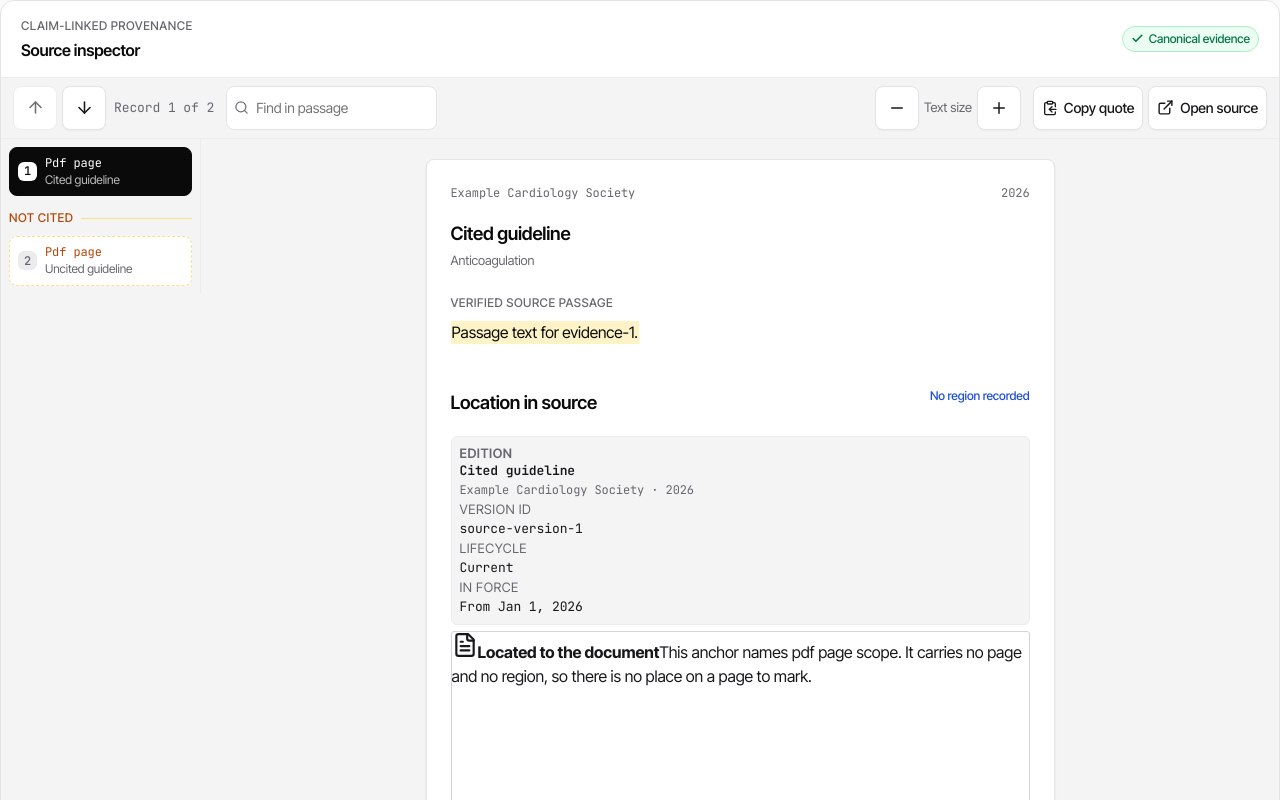
Test case: SourceViewer, finding a word in a passage › drops the search when the reader moves to another passage
In the search field labelled "Find in passage": x=331, y=108 [226,86,437,130], type "passage"
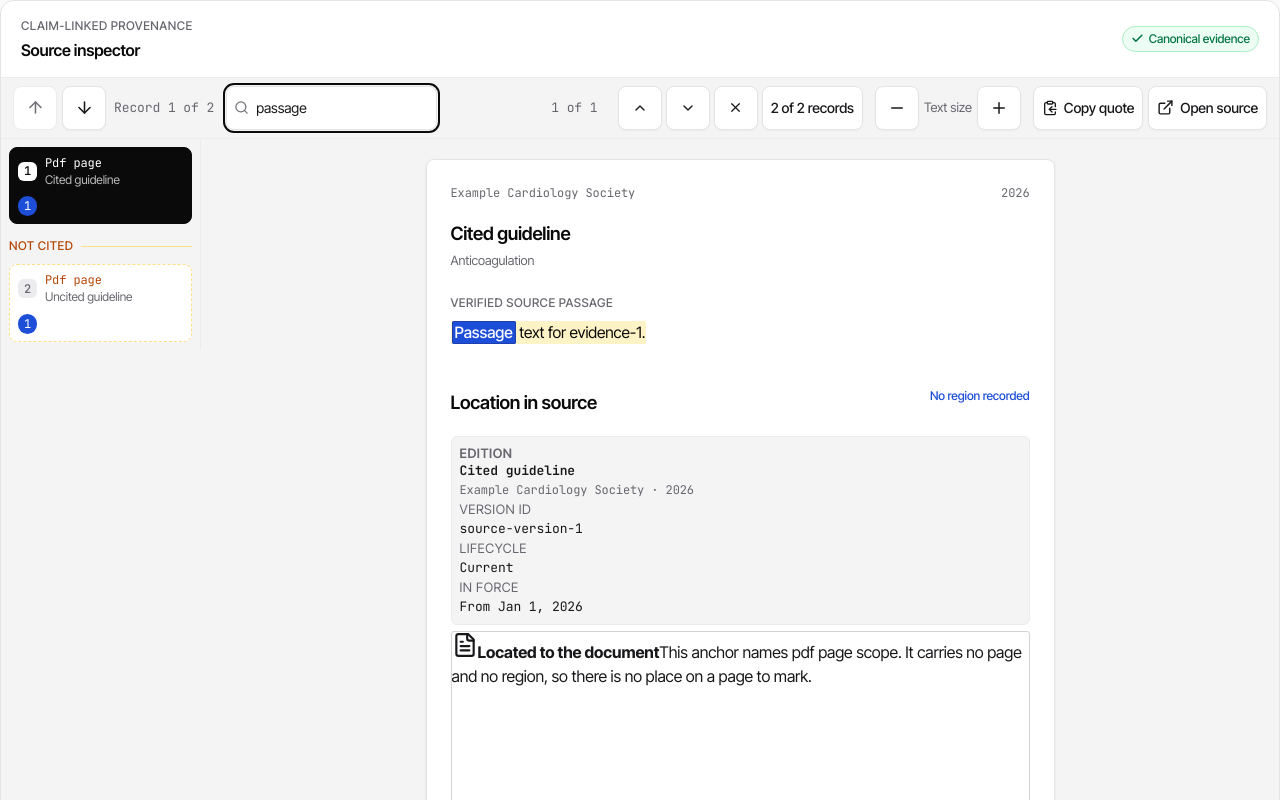
Result: the text "1 of 1" is shown at [551,99,598,116]
Click the button named "Next ranked result": x=84, y=108 [62,86,106,130]
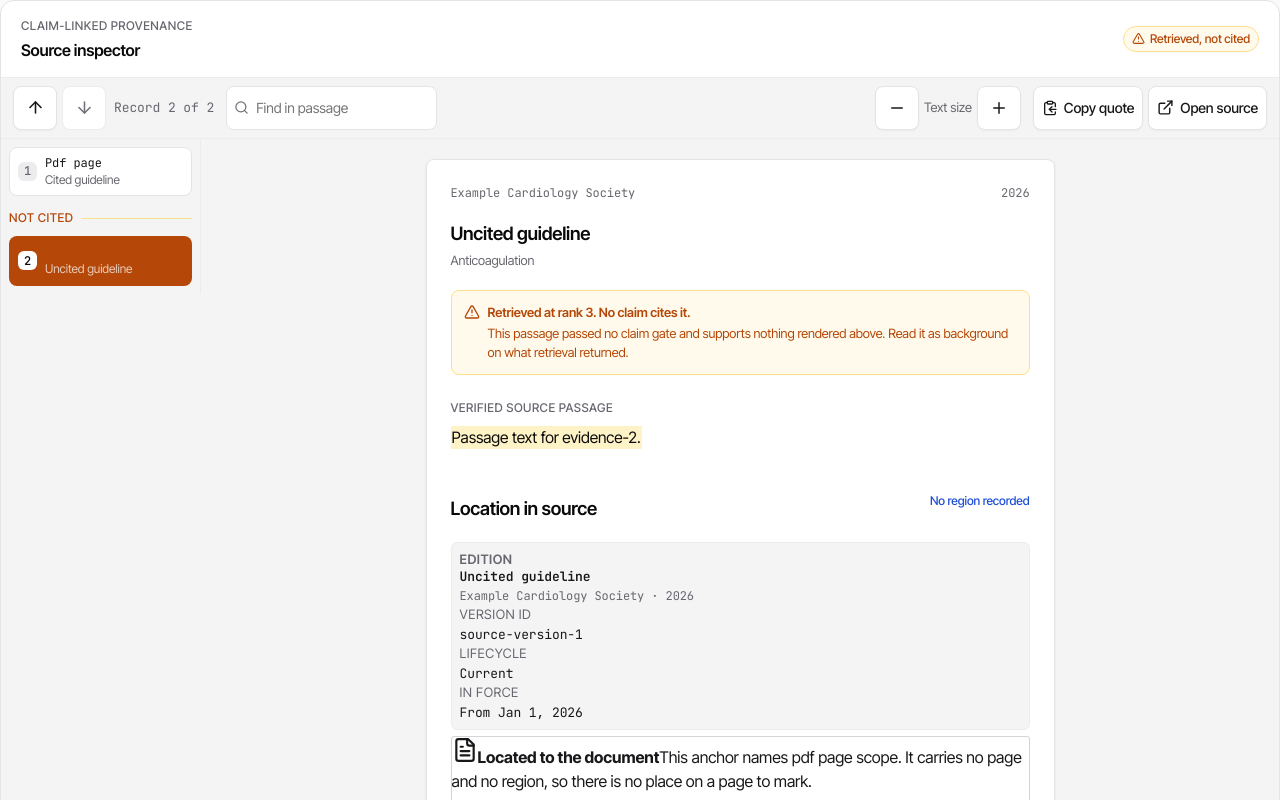
Result: the text "1 of 1" is gone
Result: the search field labelled "Find in passage" is empty at [226,86,437,130]
